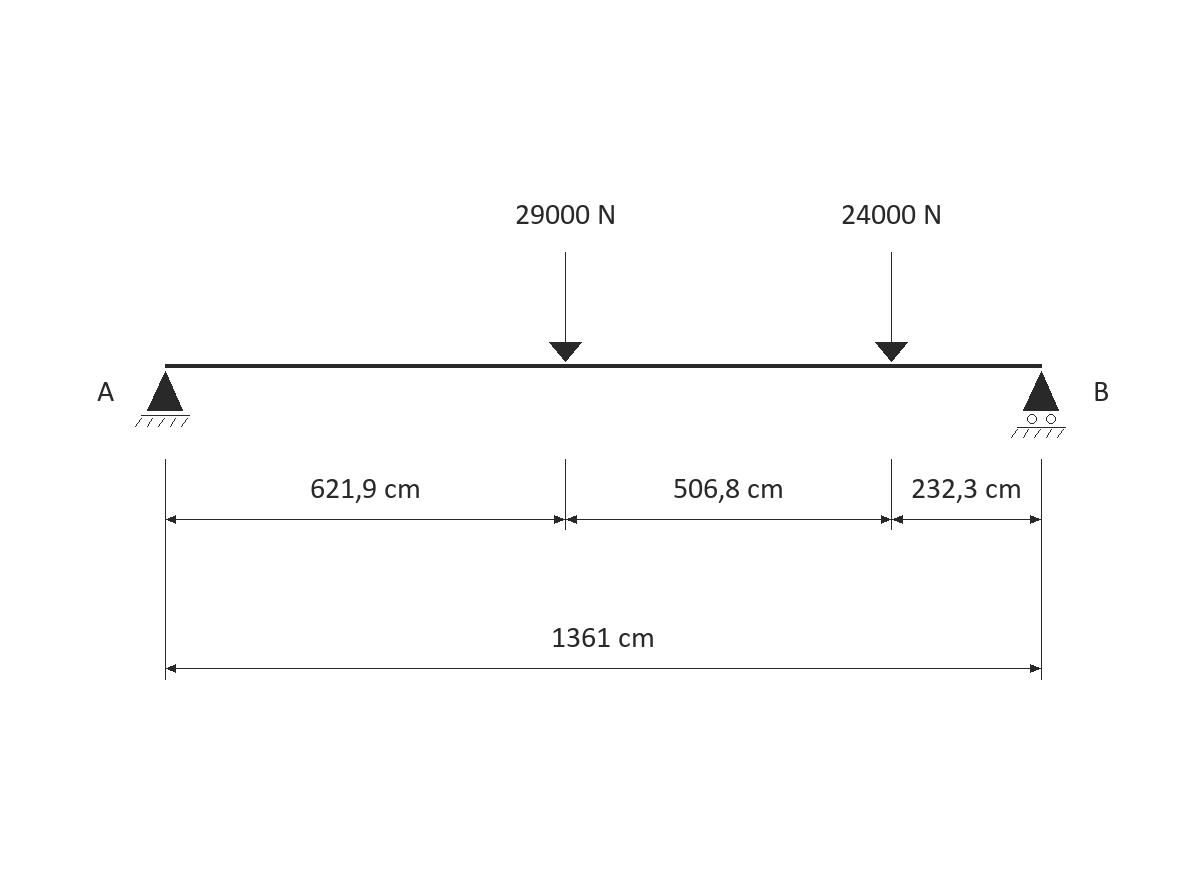pin_support: (135, 371, 190, 427)
point_load: (549, 252, 582, 362), (875, 252, 908, 362)
roller_support: (1011, 371, 1066, 438)
